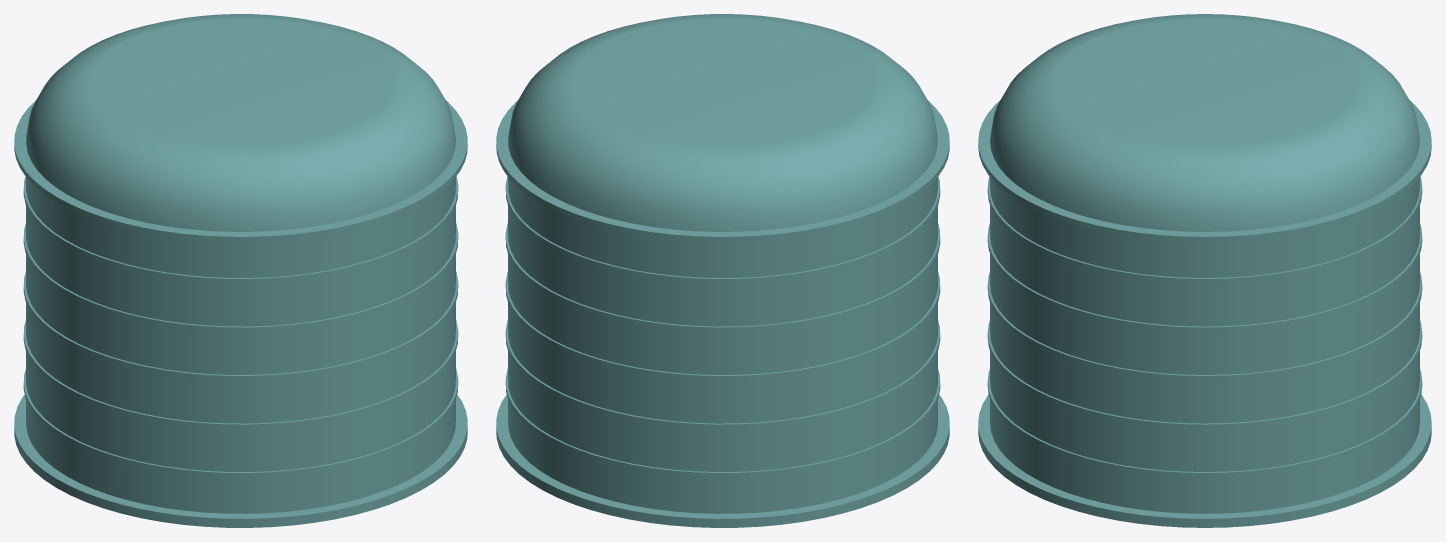
Rendered from SM_ToKaMaKo.fbx.
3 renders of one model, left to right at view 1: azimuth 30°, elevation 25°; view 2: azimuth 150°, elevation 25°; view 3: azimuth 270°, elevation 25°, orthographic.
Parts seen in each view (by area): view 1: SM_Shell; view 2: SM_Shell; view 3: SM_Shell.
Part boxes in pixels (left/top/right/bottom): SM_Shell: left=14, top=14, right=467, bottom=527; SM_Shell: left=496, top=14, right=949, bottom=527; SM_Shell: left=978, top=14, right=1431, bottom=527.
Bounding box in the file's own units: 336 × 285 × 336.
